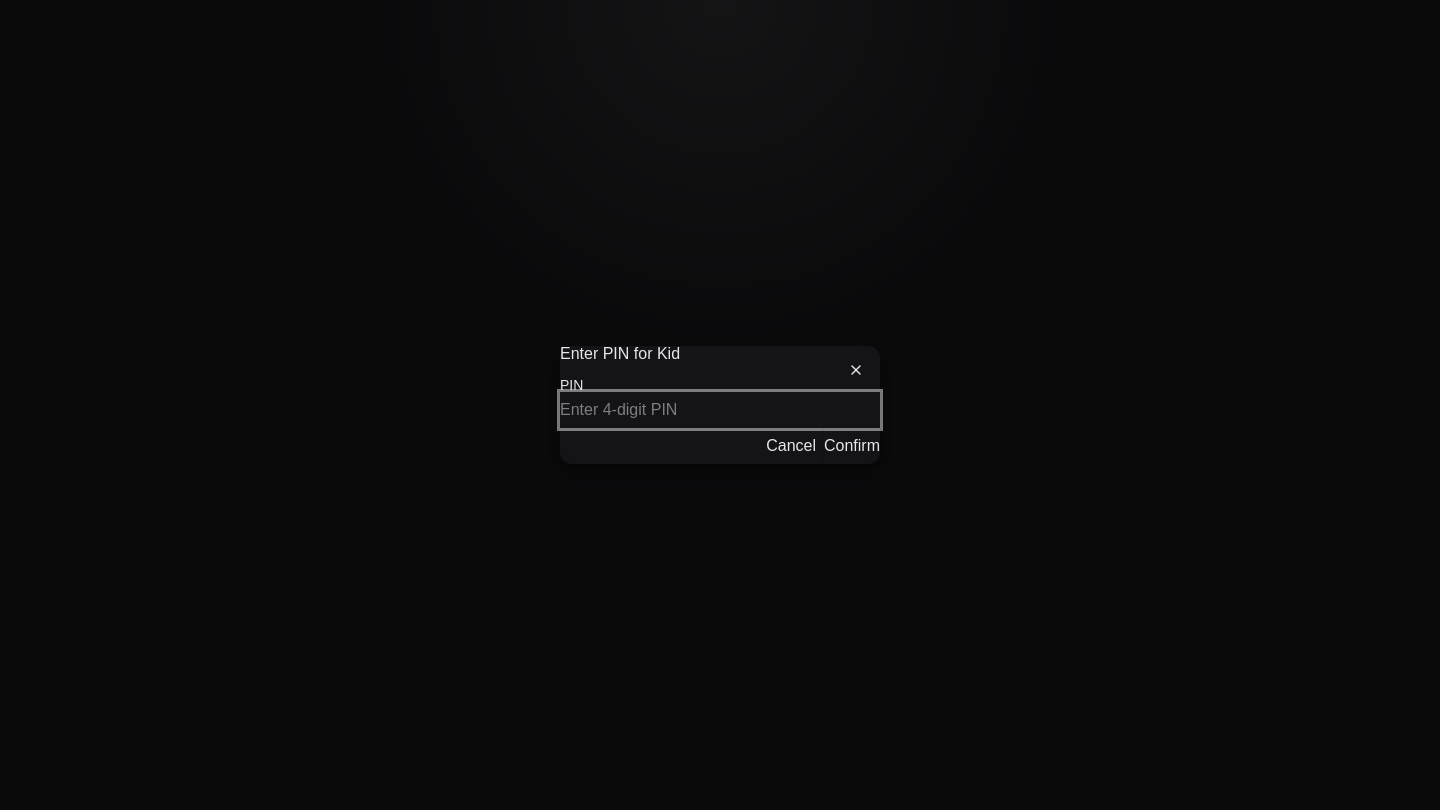
Scenario: ProfilePinDialog › shows the lockout wait instead of a wrong-PIN message on 429
Type "1234" into the password field labelled "PIN". click: (720, 410)
box: [560,392,880,428]
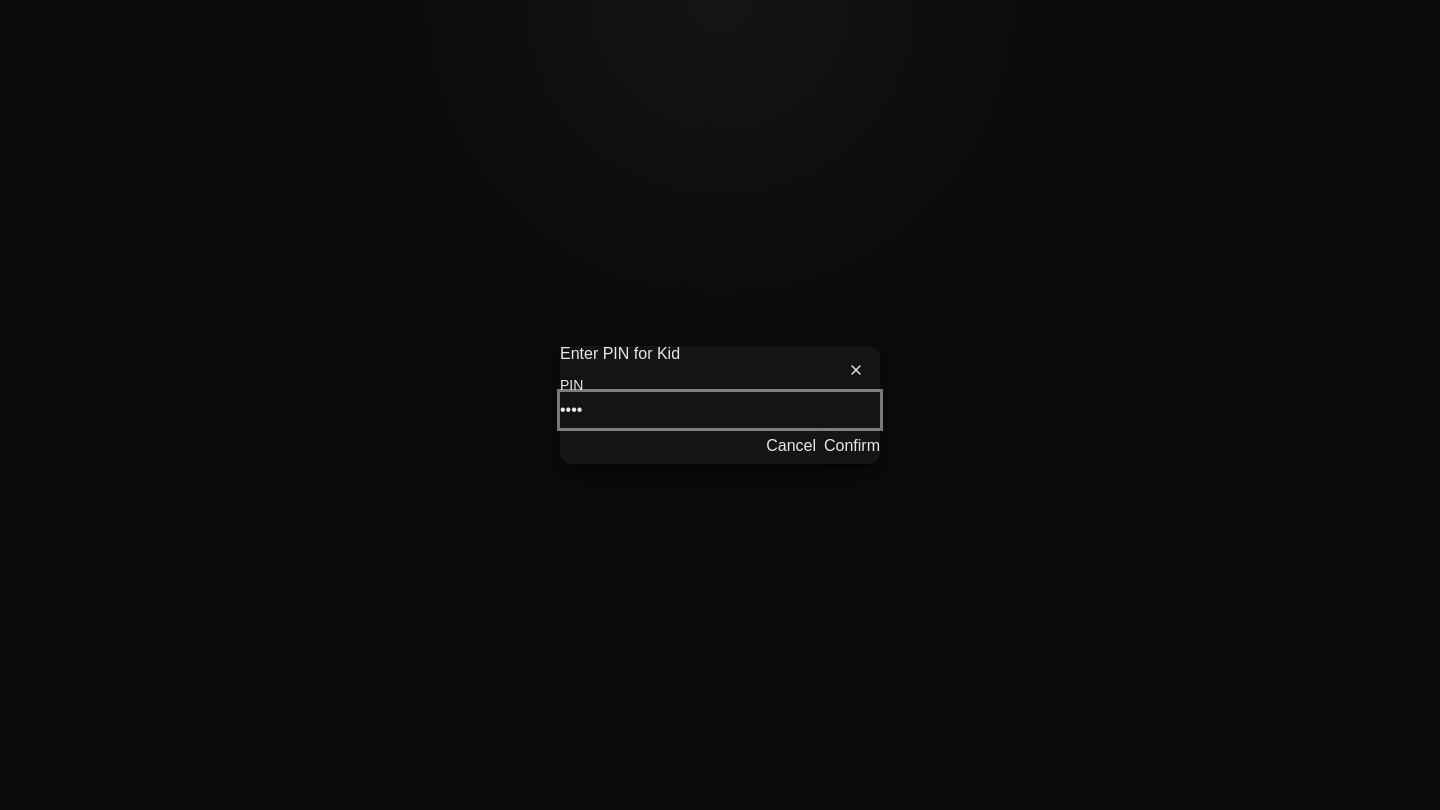
Click the button "Confirm". click: click(852, 446)
box: [824,428,880,464]
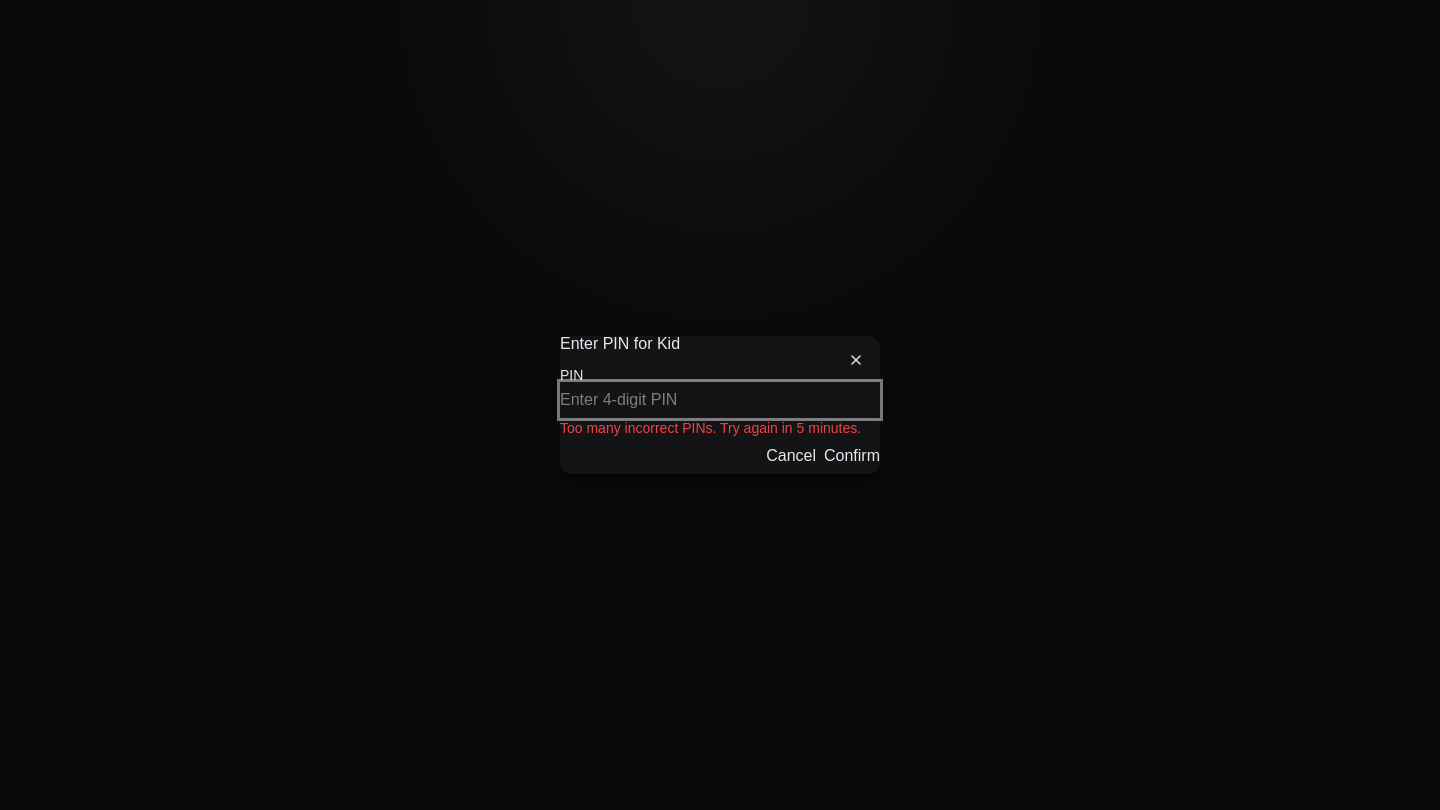
Expected: the text "Too many incorrect PINs. Try again in 5 minutes." is shown, [560,418,880,438]
Expected: the password field labelled "PIN" is empty, [560,382,880,418]
